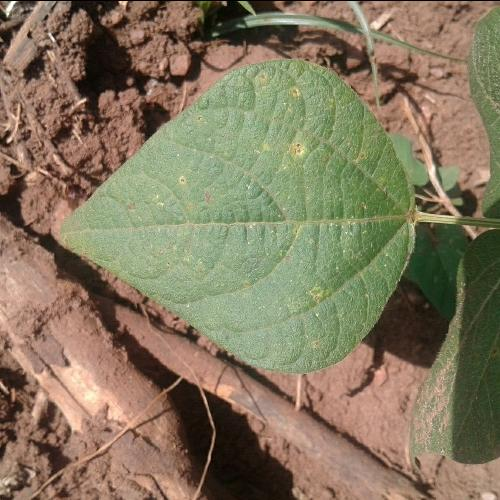embun tepung: (194, 200, 272, 312)
hawar: (231, 110, 342, 174), (152, 152, 212, 195), (291, 269, 339, 316)
